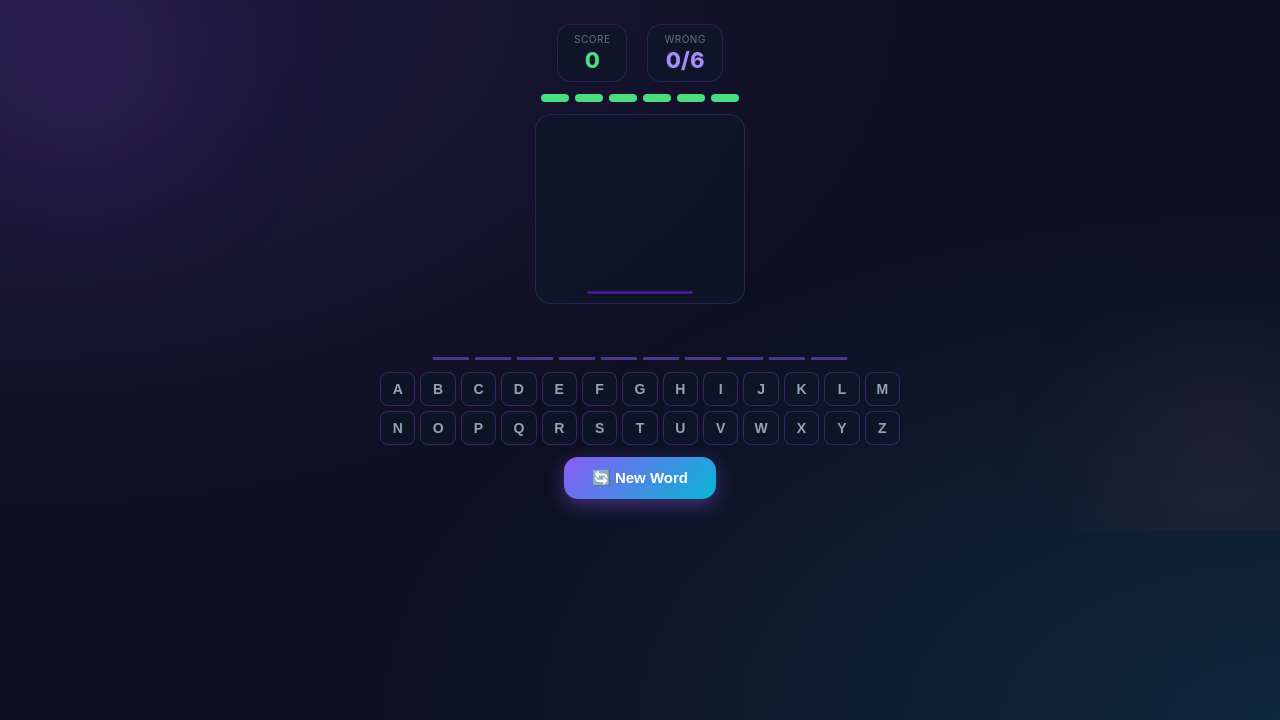
Test: Hangman Component › handles losing condition
Click the button with class "hm-key" showing "B" at (438, 389), box [420, 372, 456, 406]
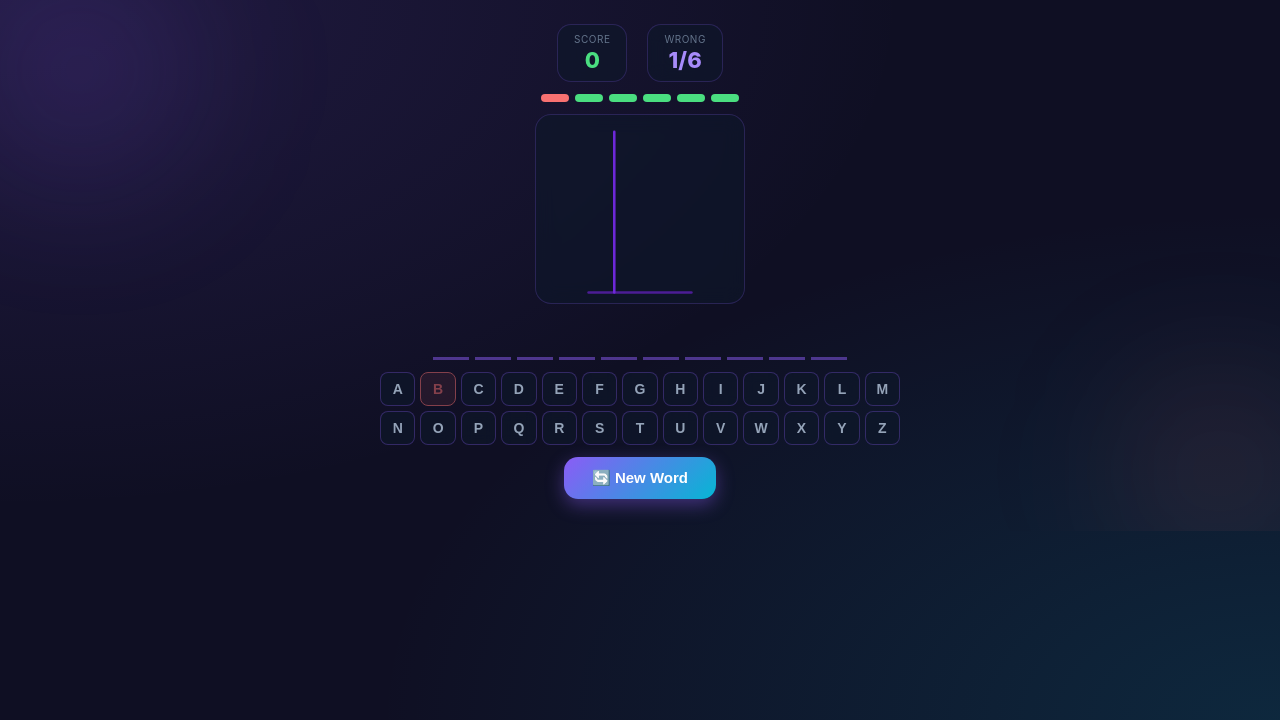
Click the button with class "hm-key" showing "D" at (519, 389), box [501, 372, 536, 406]
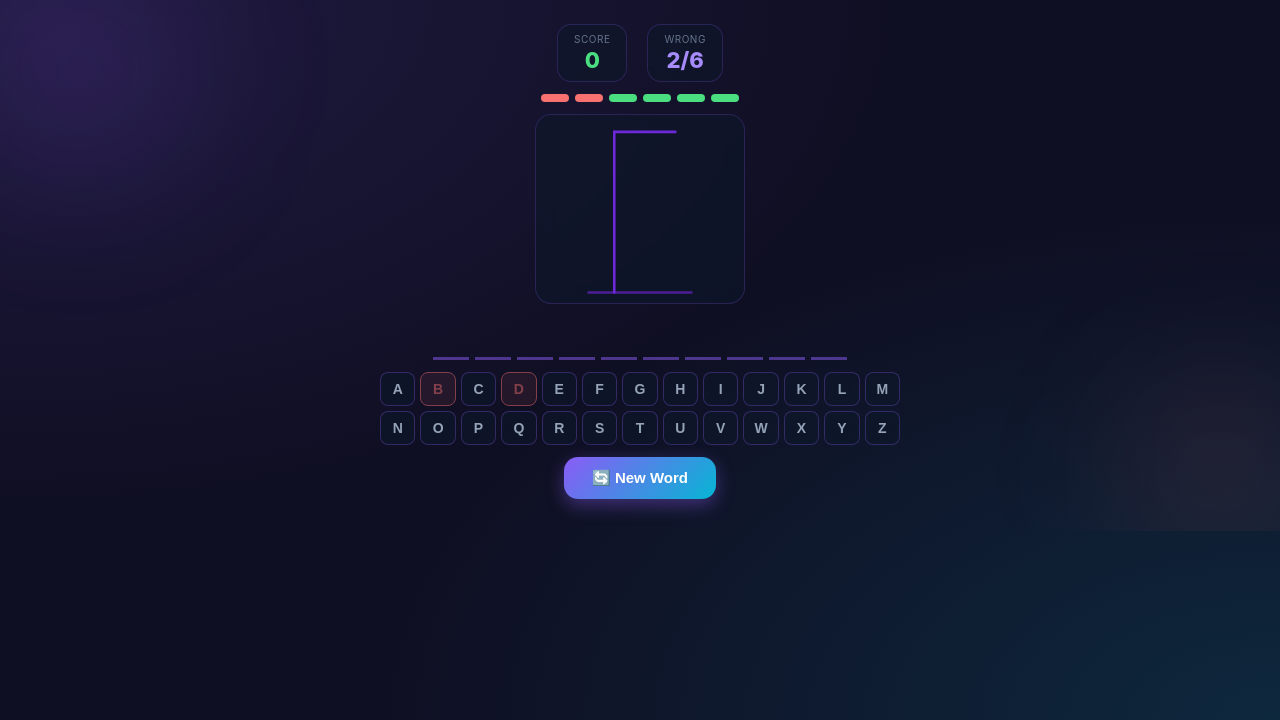
Click the button with class "hm-key" showing "E" at (559, 389), box [542, 372, 577, 406]
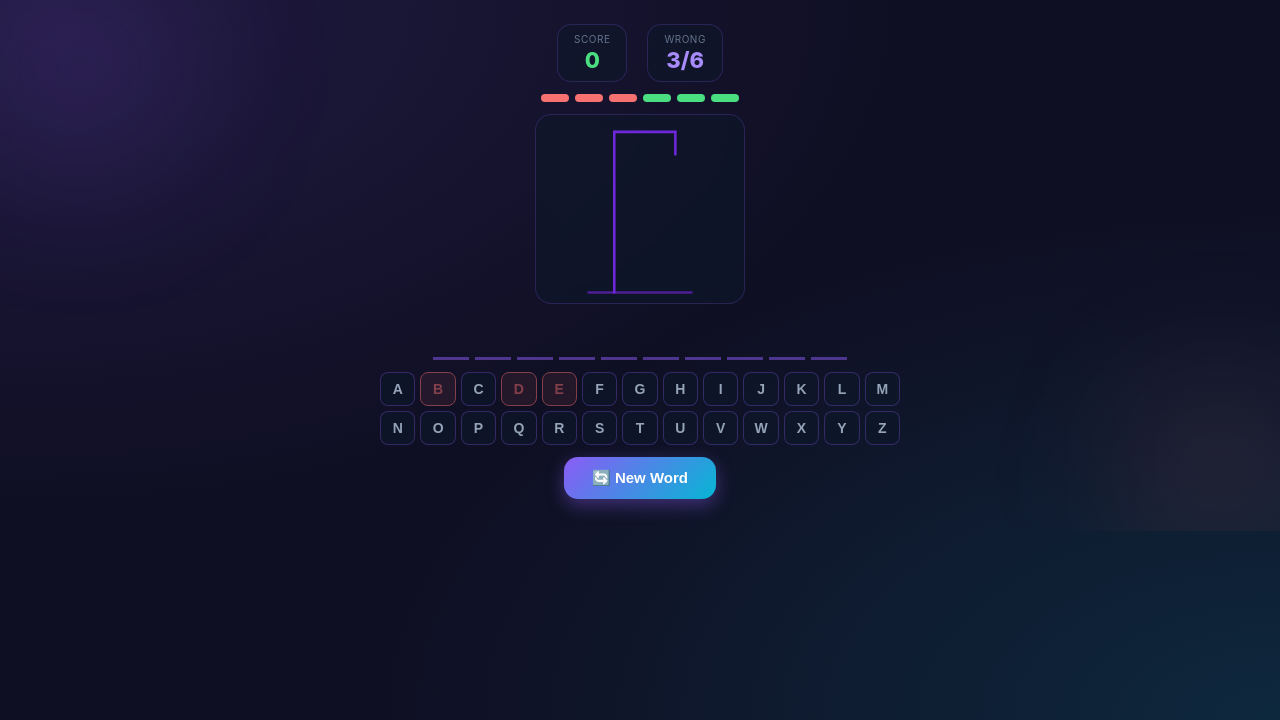
Click the button with class "hm-key" showing "F" at (600, 389), box [582, 372, 617, 406]
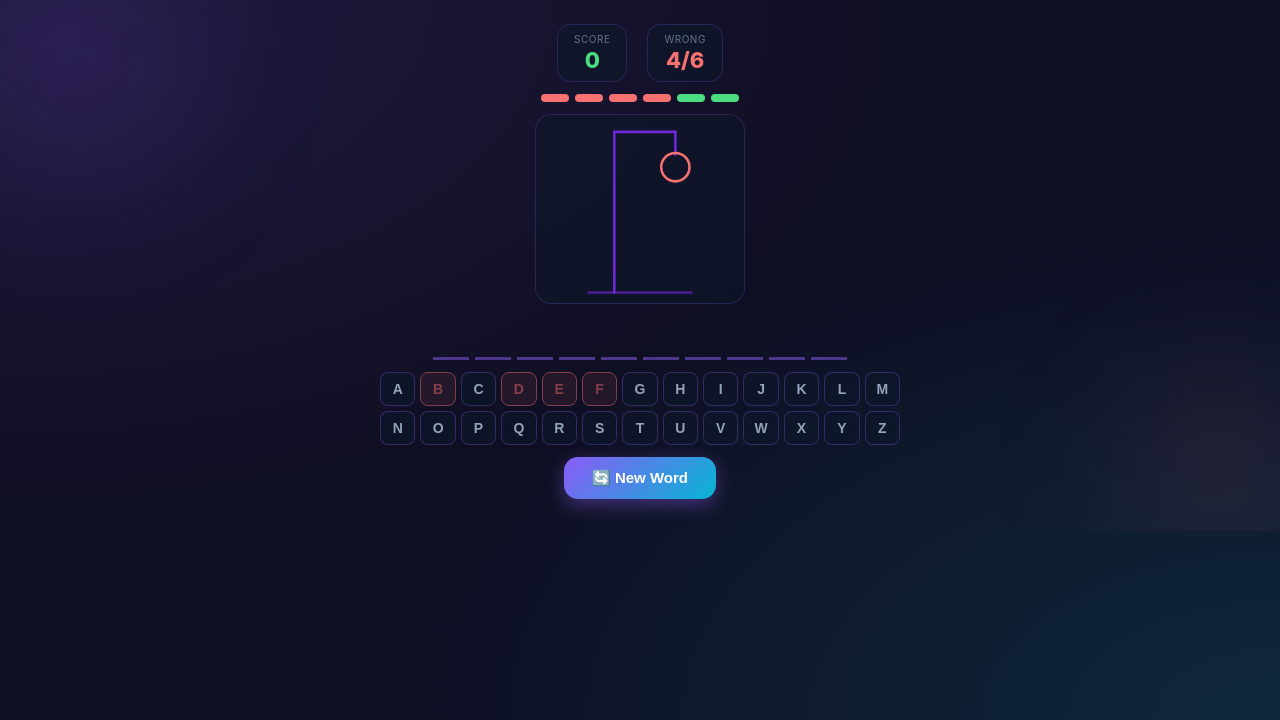
Click the button with class "hm-key" showing "G" at (640, 389), box [622, 372, 658, 406]
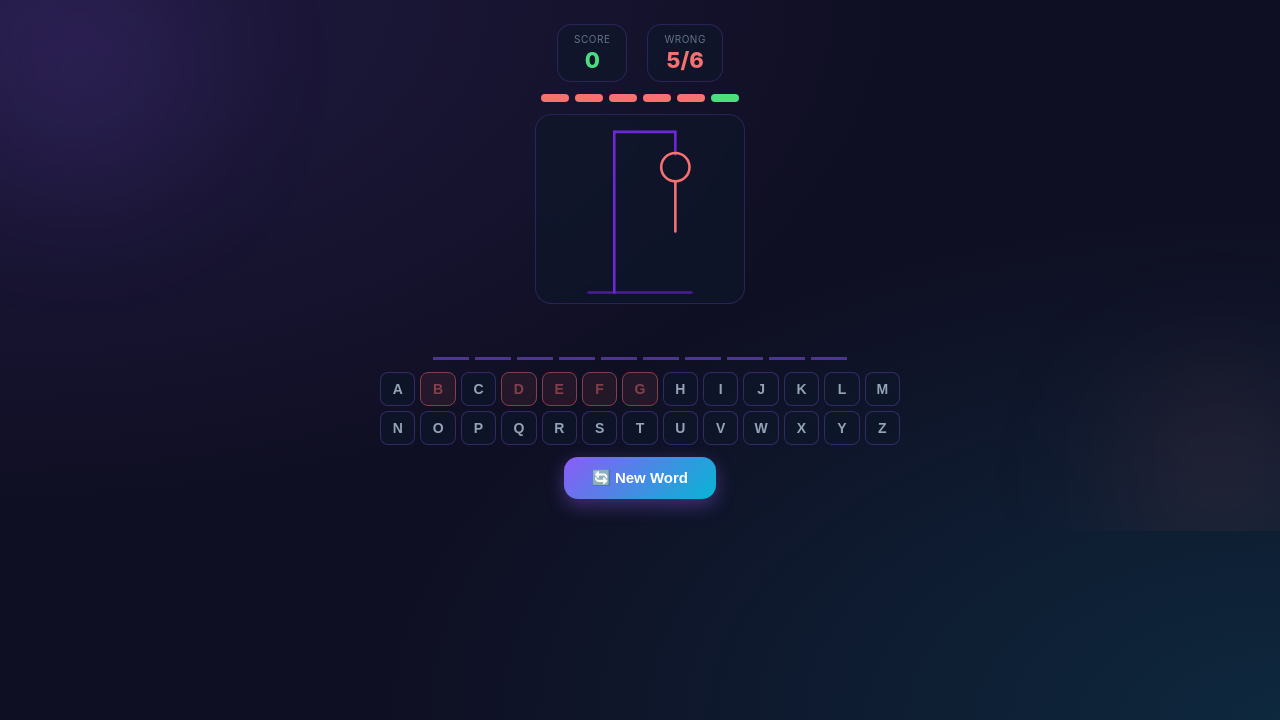
Click the button with class "hm-key" showing "H" at (680, 389), box [663, 372, 698, 406]
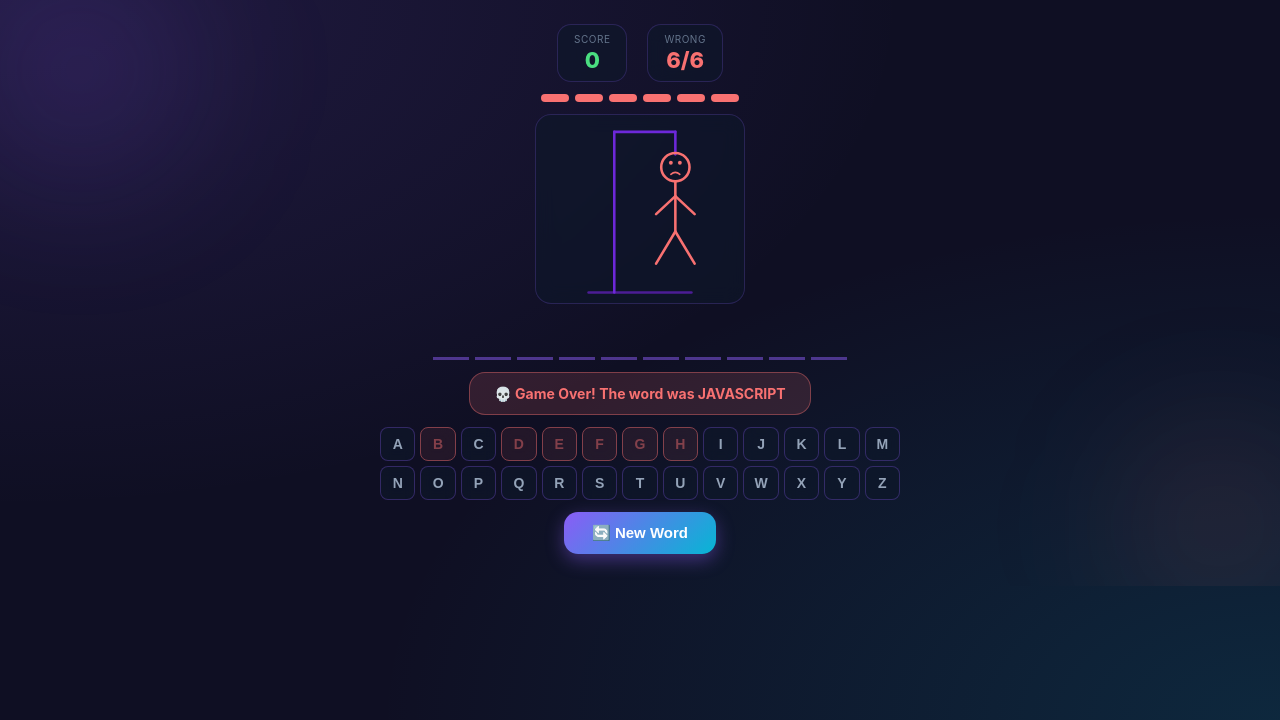
Check: the text "💀 Game Over! The word was JAVASCRIPT" is shown, box [469, 372, 811, 415]
Check: the text "JAVASCRIPT" is shown, box [698, 385, 786, 402]
Check: the button with class "hm-key" showing "A" is disabled, box [380, 427, 415, 461]
